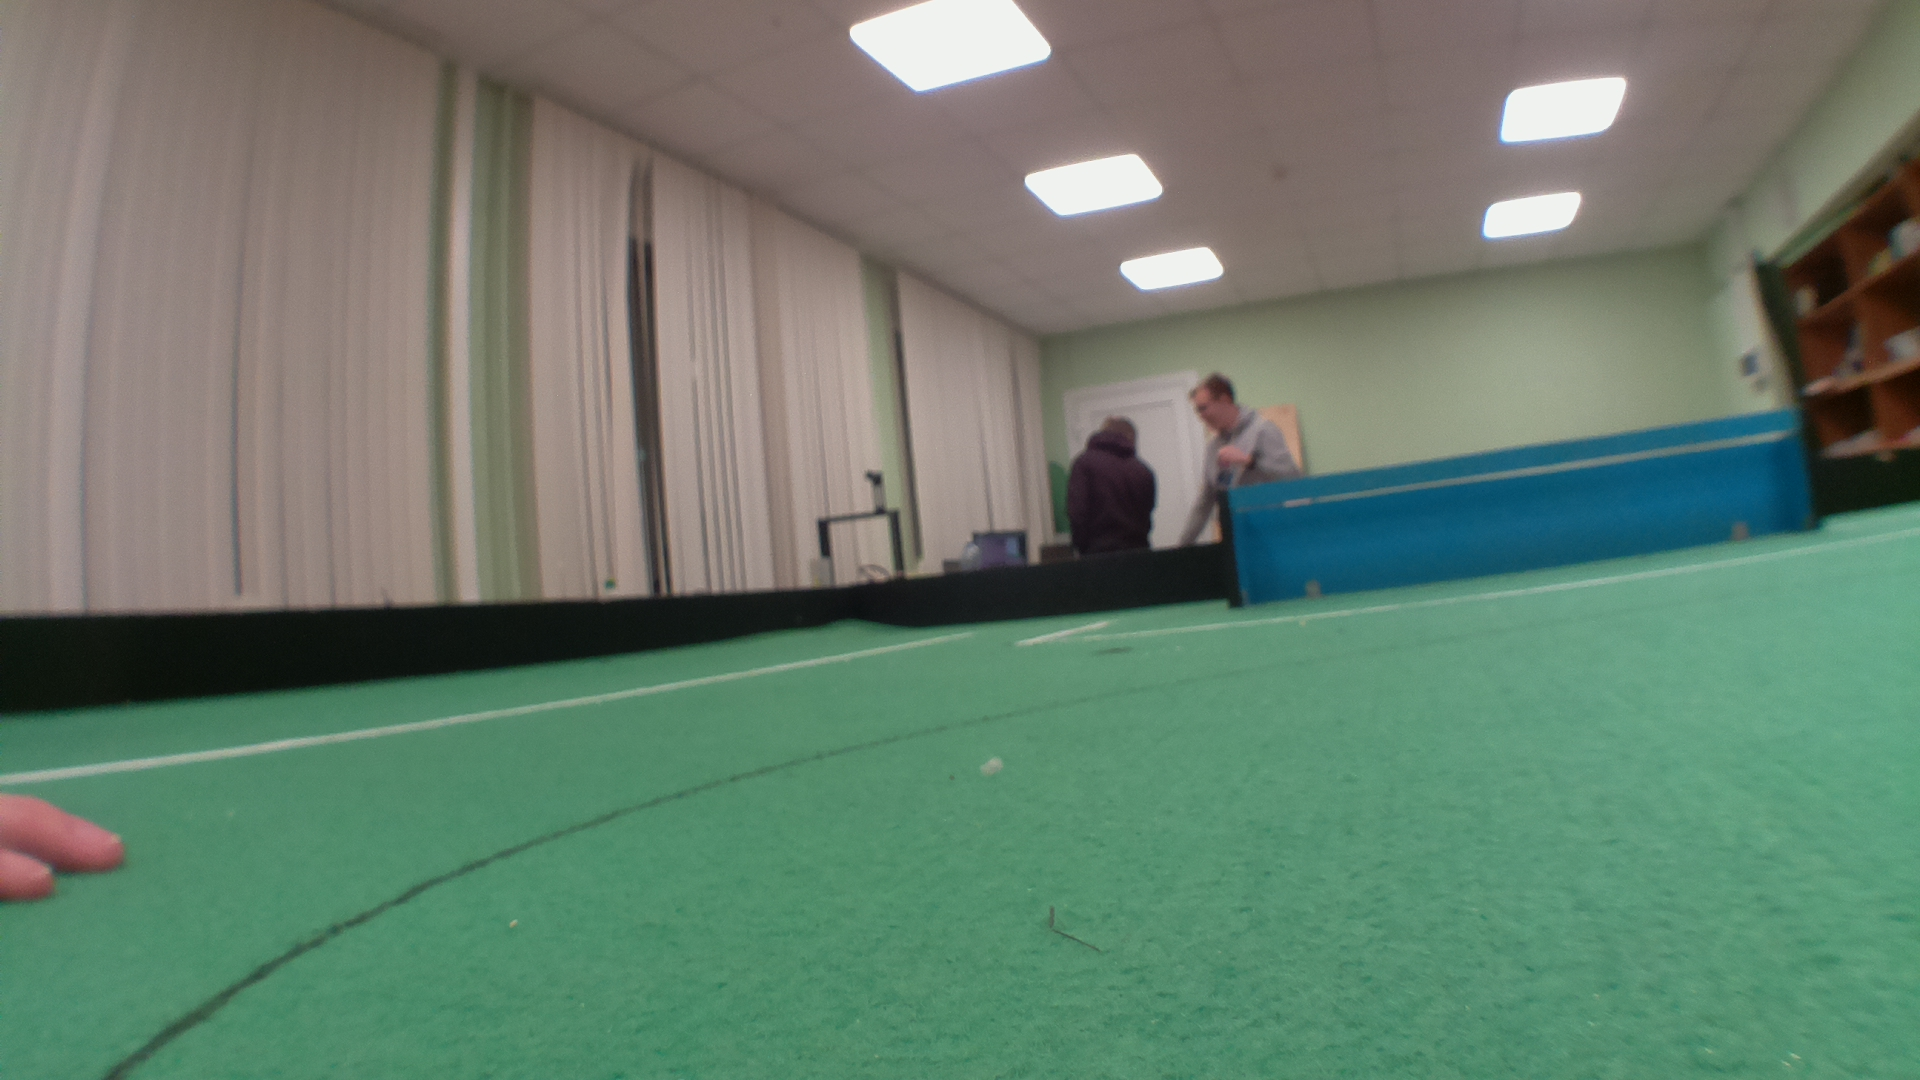BlueGoal: (1236, 405, 1803, 611)
